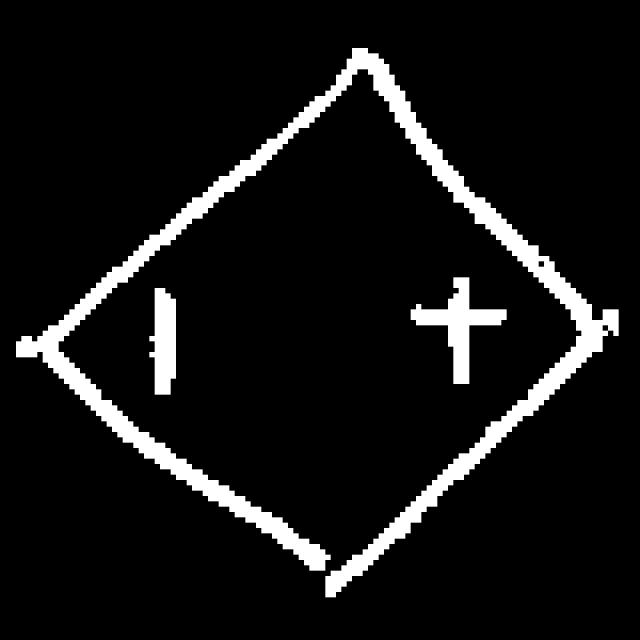dependant_voltage: (33, 39, 623, 604)
